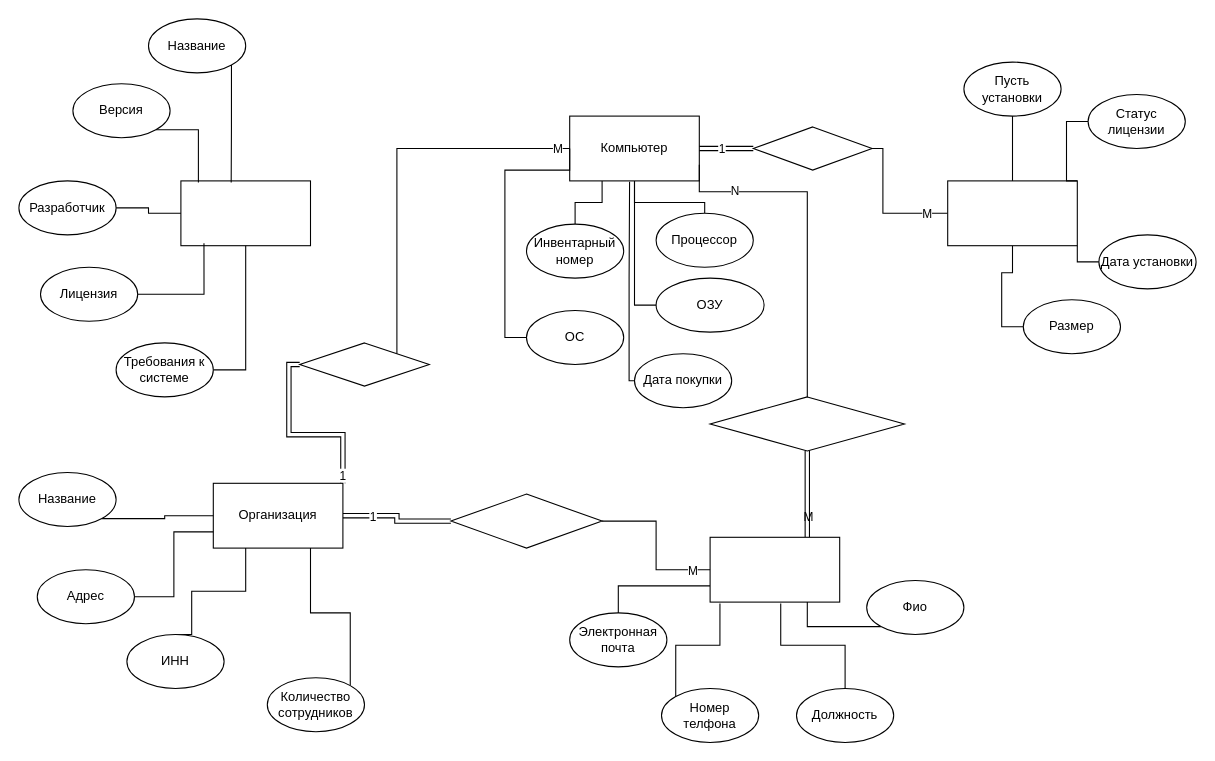
The diagram is 1215 pixels wide and 761 high, and some of its shapes have lost their labels. The centre of each missing label's shape, as x and y in pixels:
"иметь" belongs at point (812, 148).
"Пользователь" belongs at point (774, 569).
"Принадлежит" belongs at point (364, 364).
"Программа" belongs at point (245, 213).
"работает" belongs at point (526, 520).
"работать" belongs at point (807, 423).
"Установленные программы" belongs at point (1012, 213).
